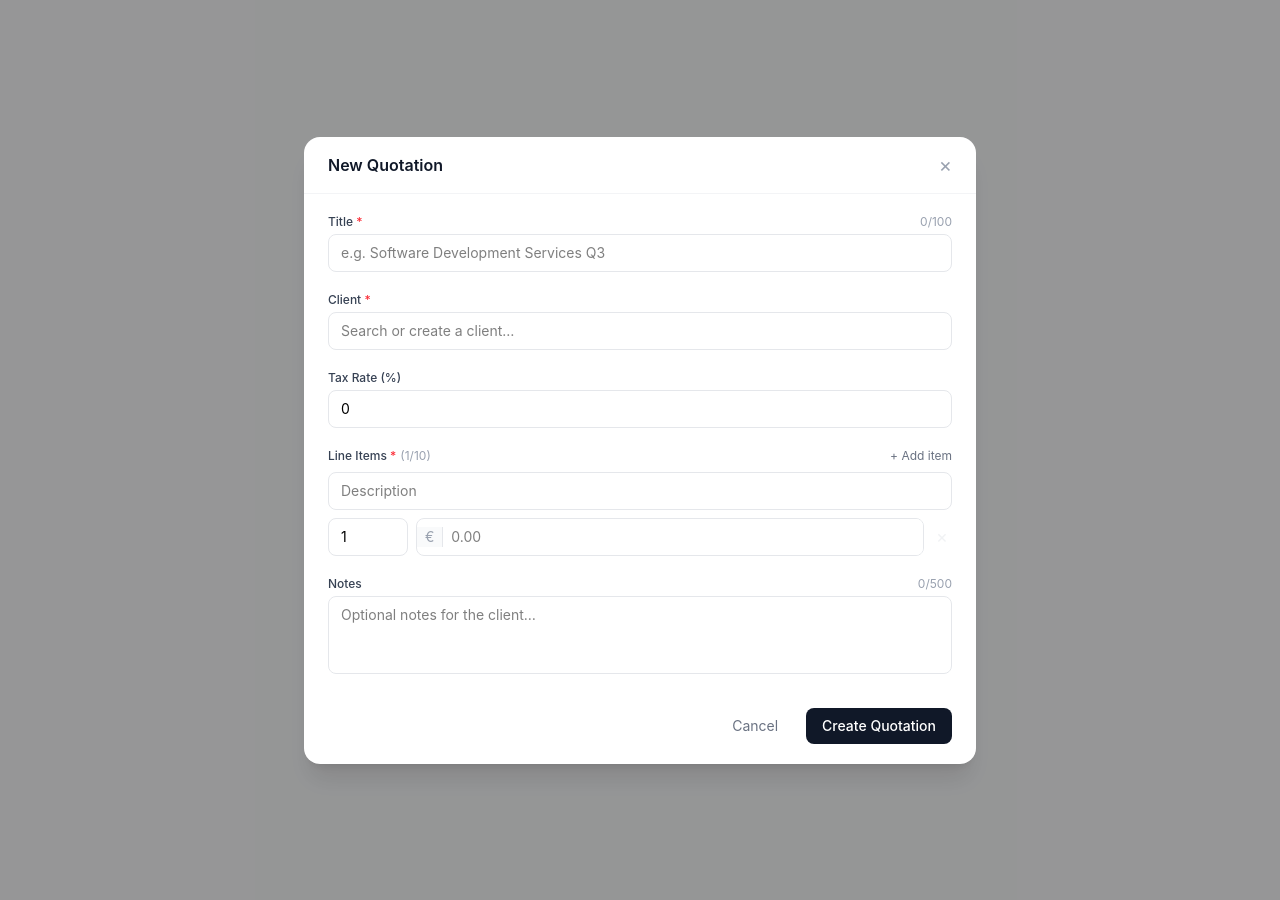
Test case: CreateQuotationModal › shows validation error when no client selected on submit
Type "New Service" into the field with placeholder "e.g. Software Development Services Q3" at (640,252), box 328,234 -> 952,272
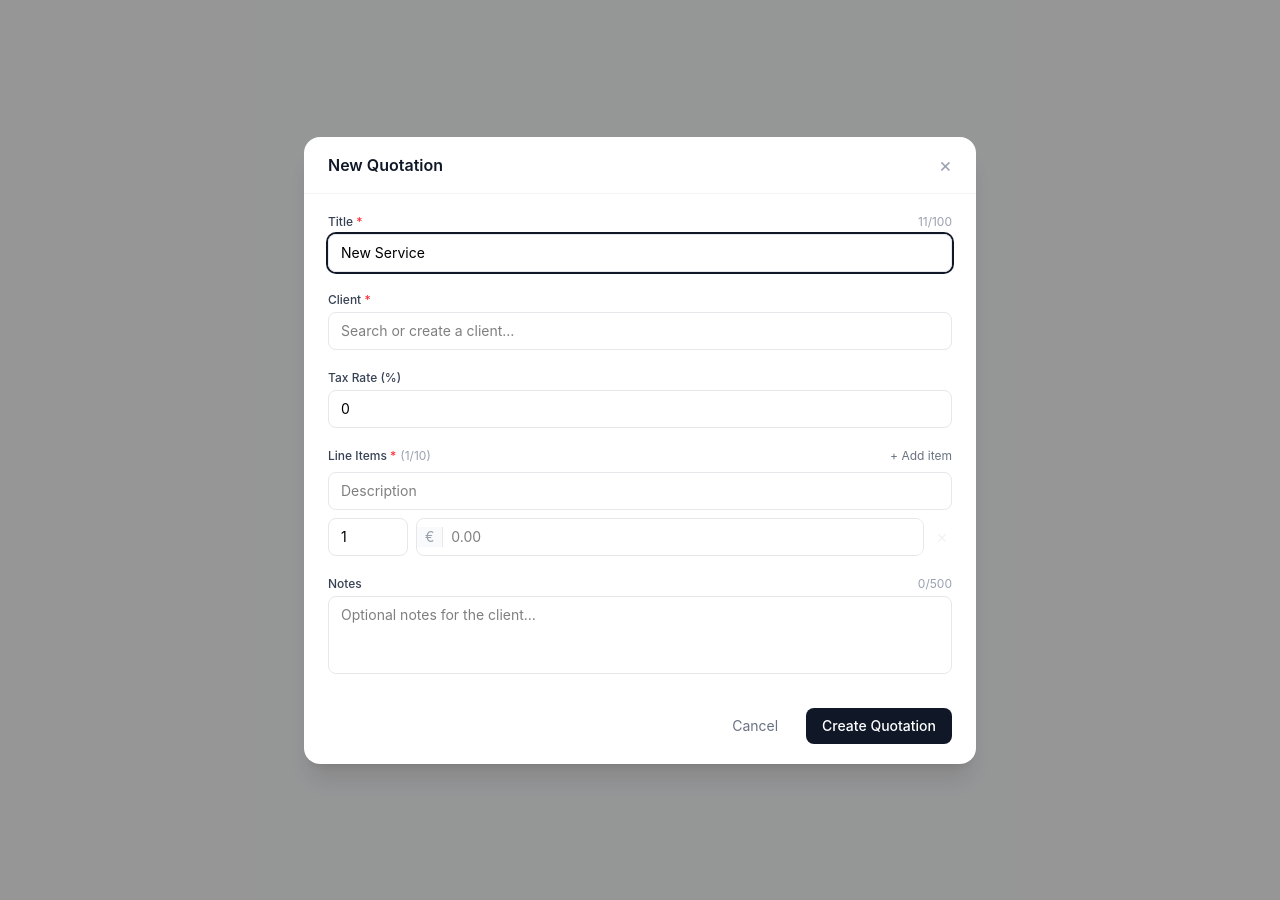
Click the button "Create Quotation" at (879,726), box 806,708 -> 952,744
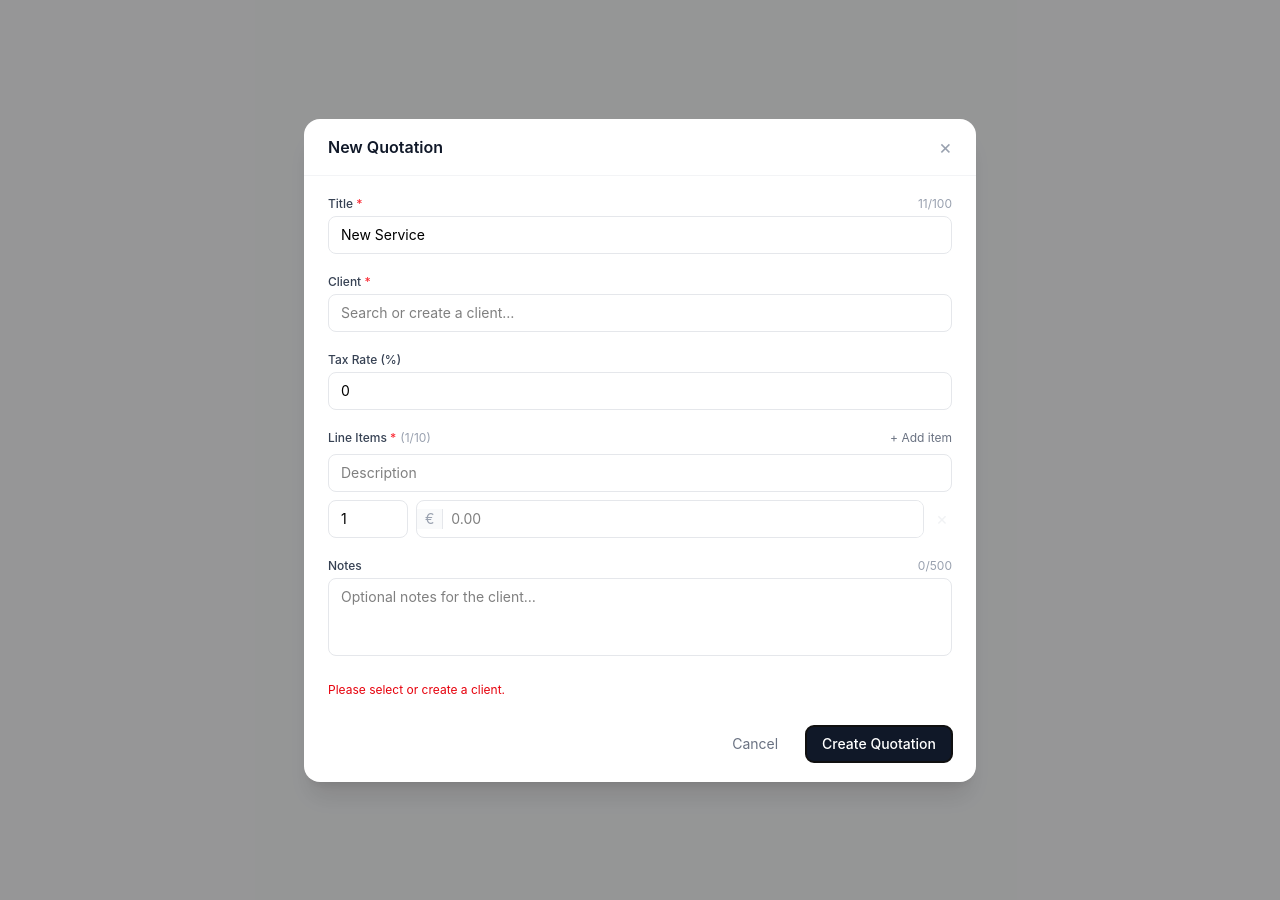
Check: the text "Please select or create a client." is shown, box 328,682 -> 505,696
